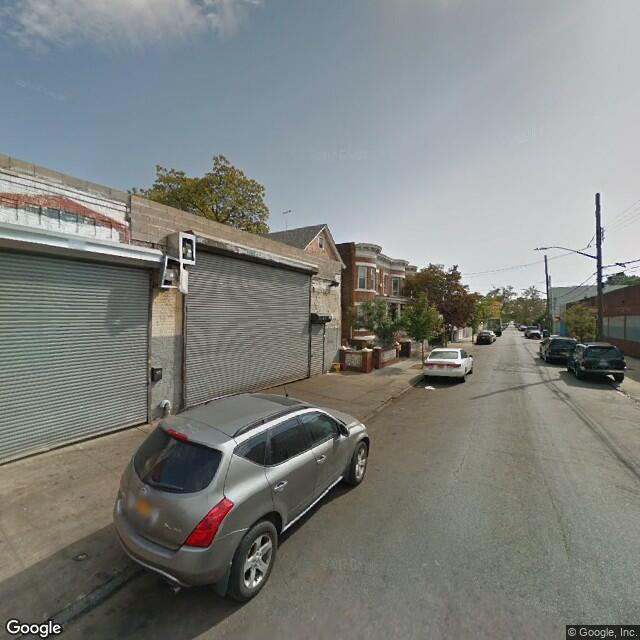litter: (423, 383, 436, 390), (77, 552, 88, 560)
